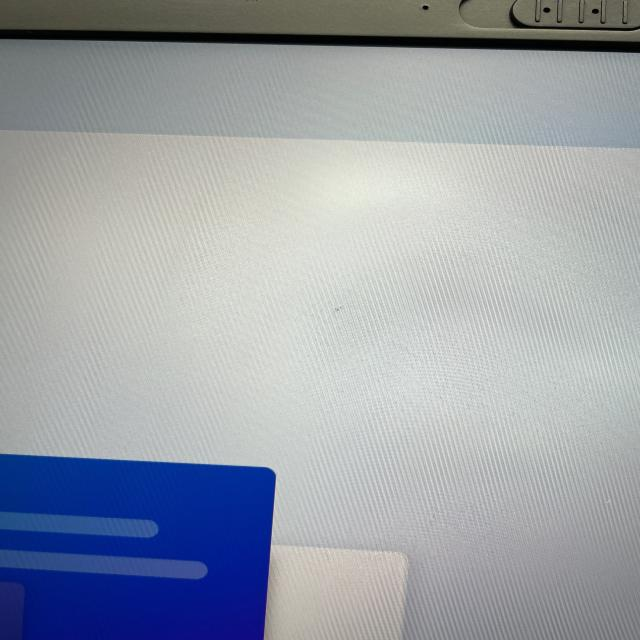Dead pixel: (334, 306, 342, 312)
